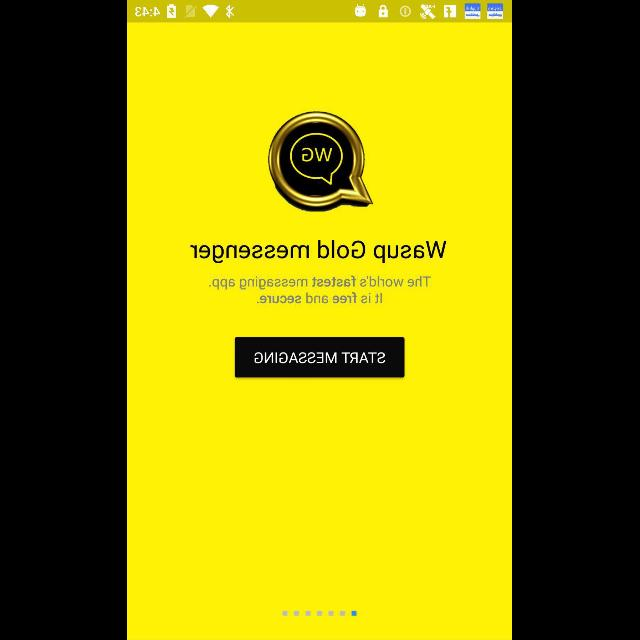image: (268, 111, 374, 213)
pageindicator: (282, 610, 358, 616)
text: (210, 275, 432, 305), (190, 240, 448, 264)
textbutton: (235, 337, 405, 377)
uppertaskbar: (128, 1, 512, 23)
